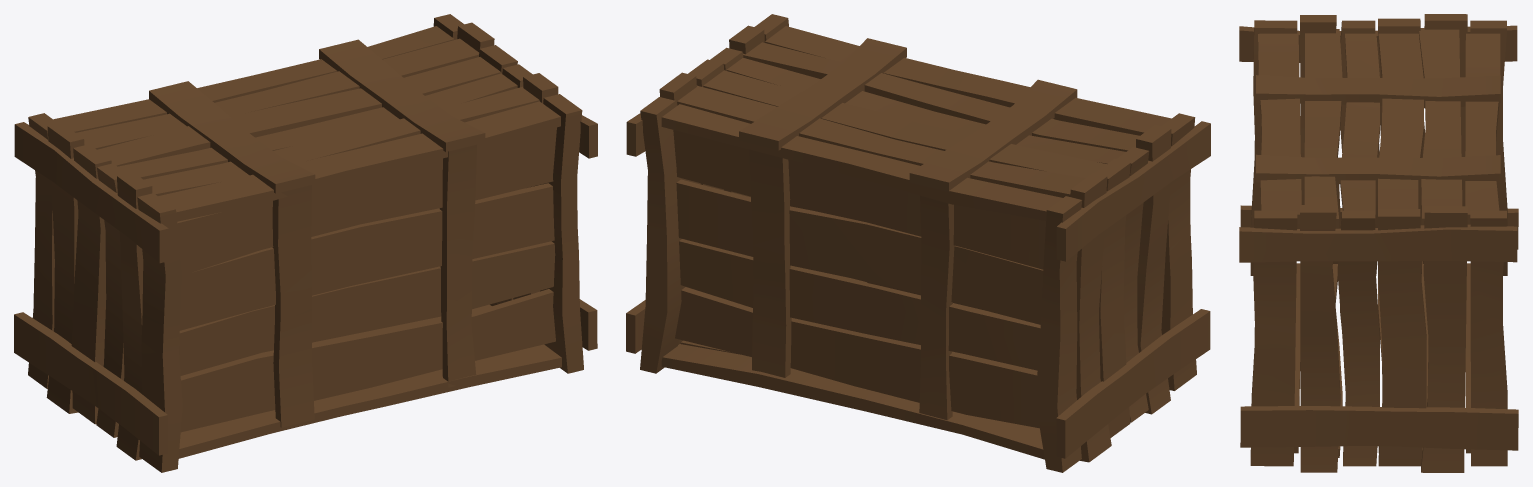
File: SM_crate.fbx
3 renders of one model, left to right at view 1: azimuth 30°, elevation 25°; view 2: azimuth 150°, elevation 25°; view 3: azimuth 270°, elevation 25°, orthographic. The views are drawn at different scales.
Visible parts, largest first — view 1: Box140; view 2: Box140; view 3: Box140.
Boxes of the visible parts, left/top/right/bottom form: Box140: left=14, top=14, right=597, bottom=472; Box140: left=626, top=14, right=1210, bottom=472; Box140: left=1239, top=14, right=1518, bottom=472.
Bounding box in the file's own units: 83.14 × 49.15 × 47.77.
